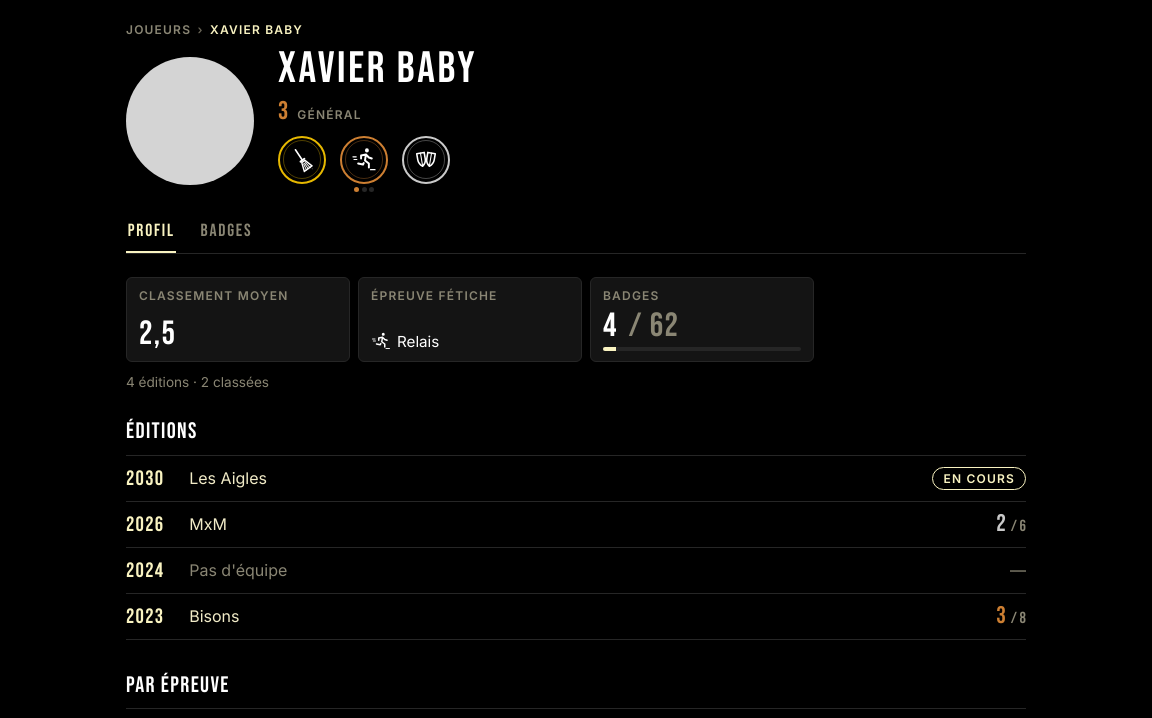
Test: player profile page › the sheet's progress › speaks French
Click the button named "Spécialiste, badge obtenu": (364, 164) [337,133,391,195]
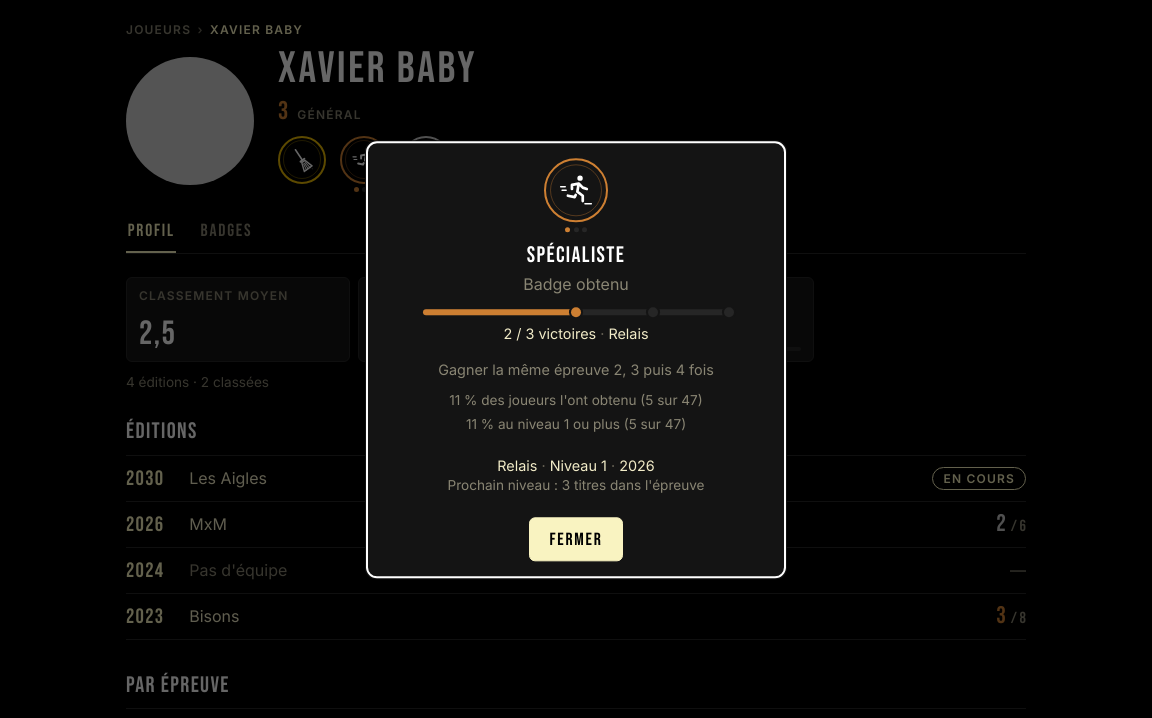
Expected: the element showing "2 / 3 victoires · Relais" is shown, [504,326,648,343]
